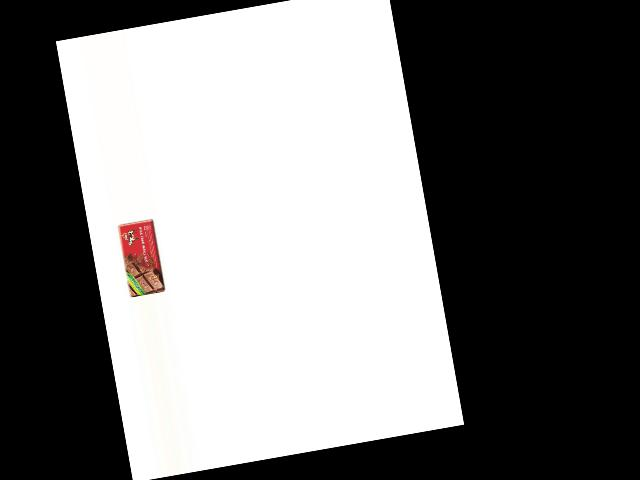chocolate: (116, 217, 167, 298)
